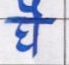ai_matra: (21, 0, 45, 20)
